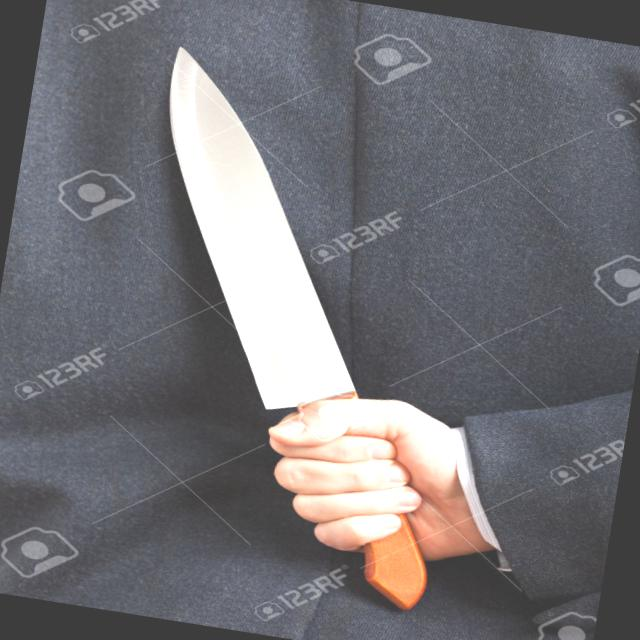knife: (91, 36, 488, 515)
